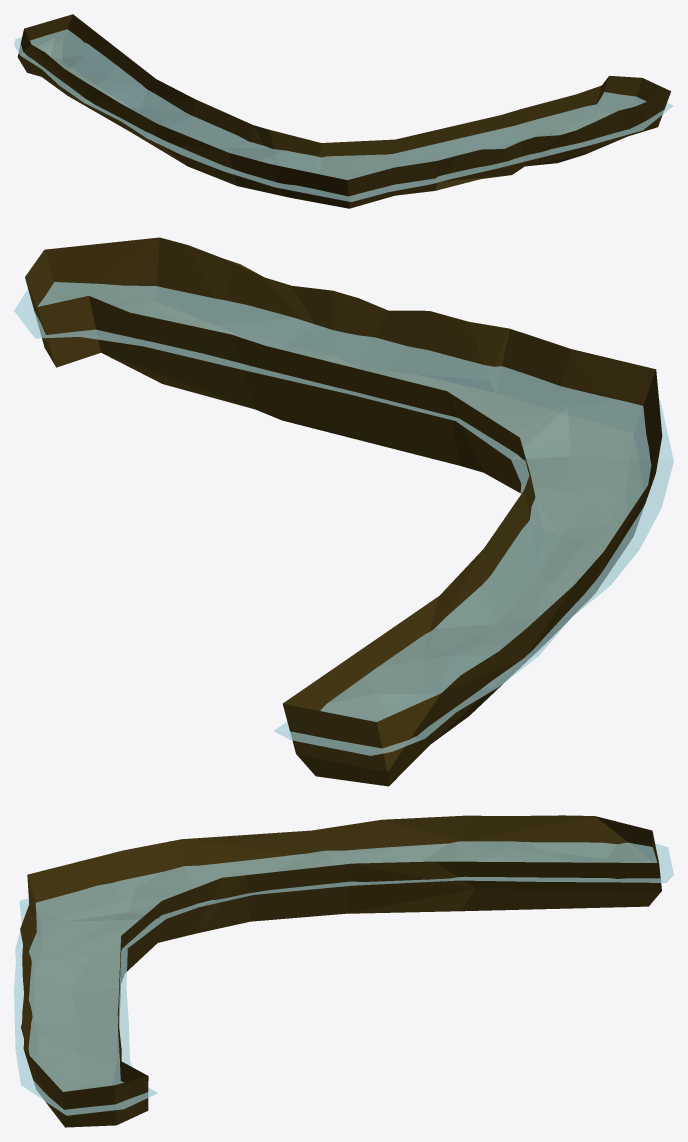
Rendered from River.fbx.
3 renders of one model, top to bottom at view 1: azimuth 30°, elevation 25°; view 2: azimuth 150°, elevation 25°; view 3: azimuth 270°, elevation 25°, orthographic. The views are drawn at different scales.
Visible parts, largest first — view 1: Plane.007, Plane.009; view 2: Plane.007, Plane.009; view 3: Plane.007, Plane.009.
Part boxes in pixels (x1,y1,x2,y2): Plane.007: [17, 14, 670, 208]; Plane.009: [14, 29, 673, 201]; Plane.007: [25, 237, 662, 786]; Plane.009: [14, 282, 673, 755]; Plane.007: [20, 815, 661, 1127]; Plane.009: [14, 841, 673, 1115].
Bounding box in the file's own units: 13815 × 1580 × 13874.
